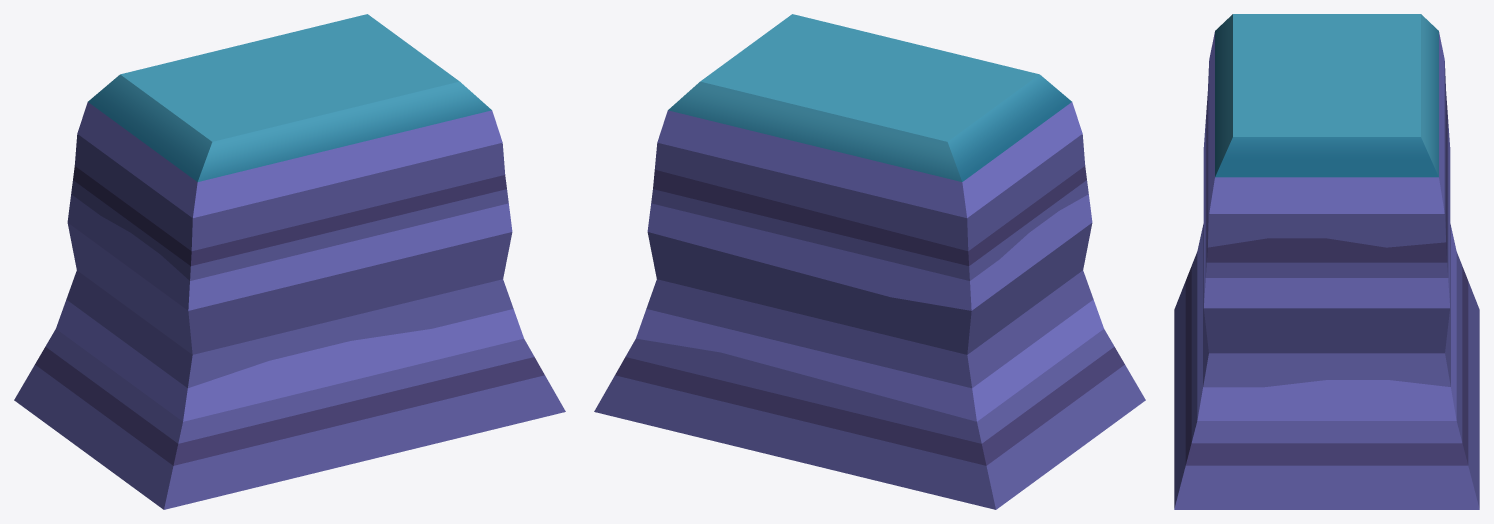
File: StoneWall013.fbx
3 renders of one model, left to right at view 1: azimuth 30°, elevation 25°; view 2: azimuth 150°, elevation 25°; view 3: azimuth 270°, elevation 25°, orthographic.
Parts seen in each view (by area): view 1: StoneWall013; view 2: StoneWall013; view 3: StoneWall013.
Boxes of the visible parts, box(x1,y1,x2,y2) form: StoneWall013: box(14, 14, 565, 509); StoneWall013: box(594, 14, 1145, 509); StoneWall013: box(1174, 14, 1479, 509).
Bounding box in the file's own units: 537 × 418 × 347.
